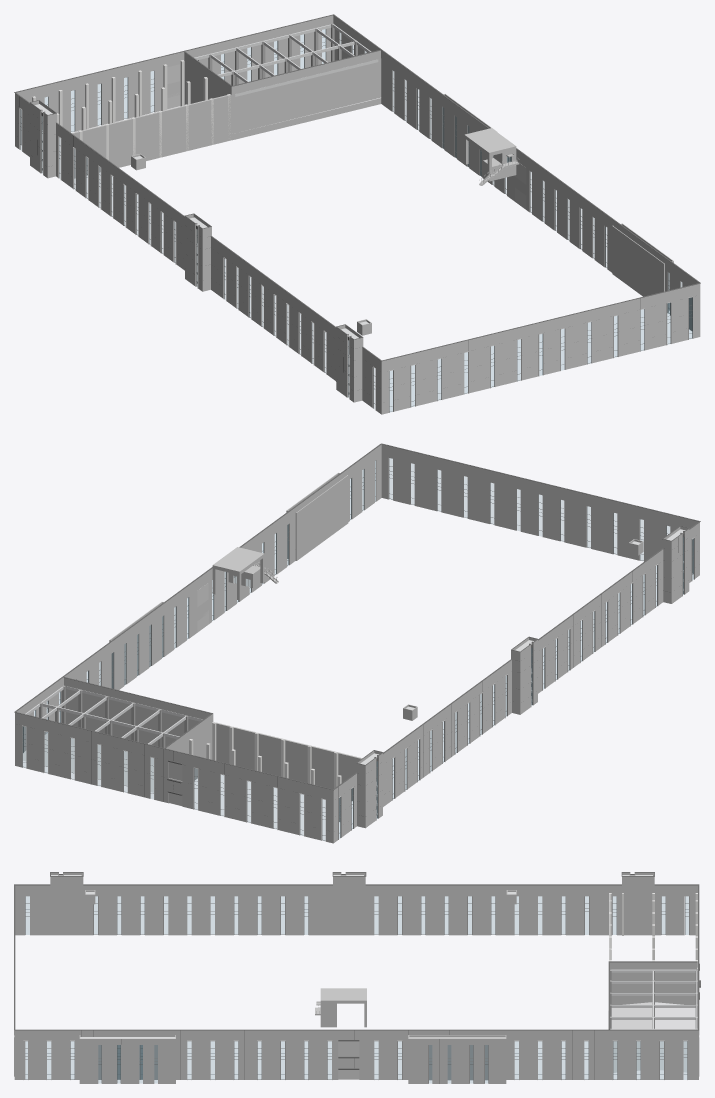
The model's file is source-upper.glb.
The picture shows the model from 3 angles, top to bottom: view 1: azimuth 30°, elevation 25°; view 2: azimuth 150°, elevation 25°; view 3: azimuth 270°, elevation 25°; orthographic projection. The views are drawn at different scales.
Visible parts, largest first — view 1: src_upper_1, src_upper_3, src_upper_4, src_upper_0, src_upper_7, src_upper_8, src_upper_5; view 2: src_upper_1, src_upper_3, src_upper_4, src_upper_0, src_upper_7, src_upper_8, src_upper_5; view 3: src_upper_1, src_upper_3, src_upper_4, src_upper_0, src_upper_7, src_upper_5, src_upper_8.
Part boxes in pixels (x1,y1,x2,y2): src_upper_1: (15,15,700,414); src_upper_3: (14,14,700,411); src_upper_4: (21,29,691,410); src_upper_0: (34,24,380,393); src_upper_7: (32,60,230,160); src_upper_8: (208,23,381,103); src_upper_5: (167,64,526,209); src_upper_1: (15,444,699,843); src_upper_3: (14,443,700,840); src_upper_4: (23,459,693,839); src_upper_0: (23,529,685,814); src_upper_7: (189,722,360,821); src_upper_8: (39,685,188,748); src_upper_5: (169,583,208,805); src_upper_1: (14,872,699,1083); src_upper_3: (14,872,700,1083); src_upper_4: (26,897,688,1082); src_upper_0: (51,875,697,1072); src_upper_7: (609,893,697,969); src_upper_5: (338,1041,359,1079); src_upper_8: (610,969,697,1029).
Bounding box in the file's own units: 101 × 21.75 × 192.
